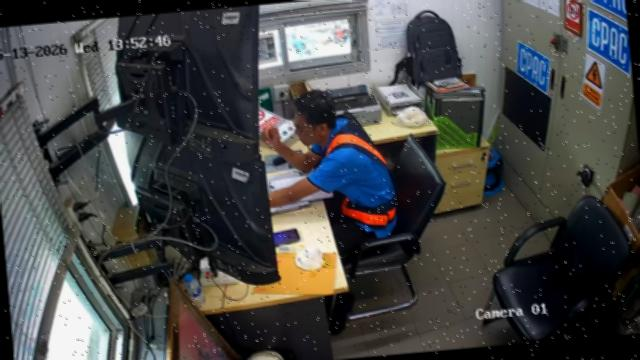Head: (293, 91, 337, 145)
People: (261, 91, 398, 259)
Phone: (274, 228, 301, 245)
